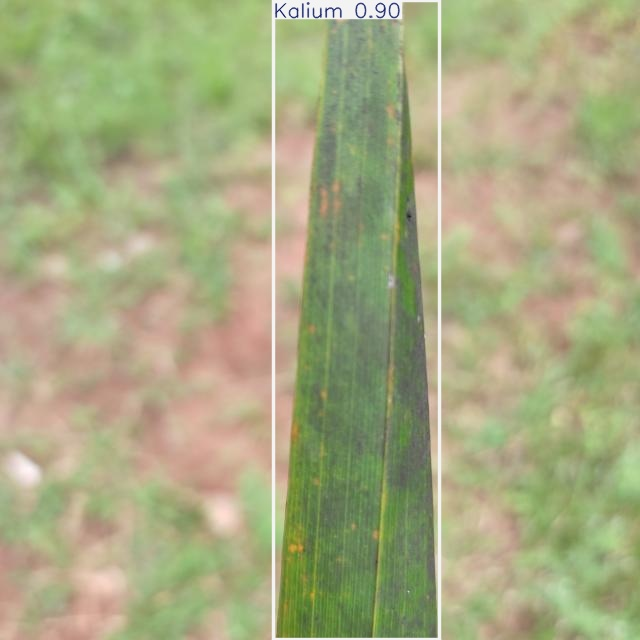Kalium: (273, 0, 440, 640)
